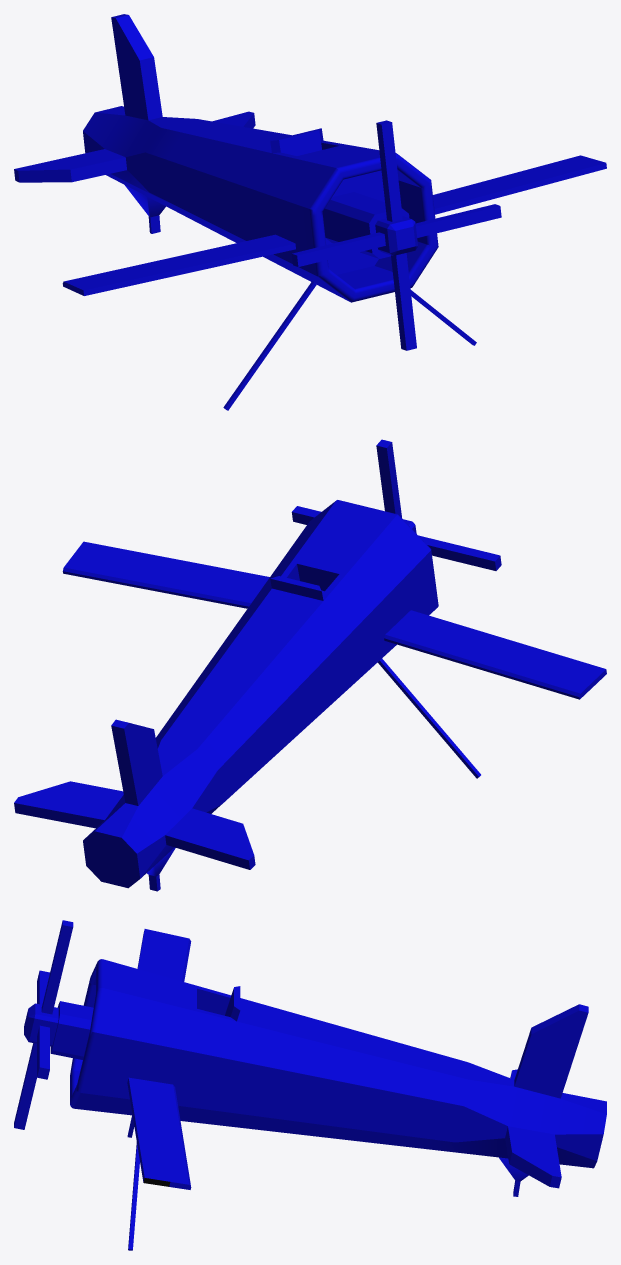
The model's file is Airplane Colored.fbx.
3 views of the same model, one above another, from view 1: azimuth 30°, elevation 25°; view 2: azimuth 150°, elevation 25°; view 3: azimuth 270°, elevation 25° (orthographic). The views are drawn at different scales.
Parts seen in each view (by area): view 1: pCube1; view 2: pCube1; view 3: pCube1.
Boxes of the visible parts, left/top/right/bottom form: pCube1: left=14, top=14, right=606, bottom=410; pCube1: left=14, top=439, right=606, bottom=891; pCube1: left=14, top=920, right=606, bottom=1250.
Bounding box in the file's own units: 8.96 × 4.61 × 9.01.
